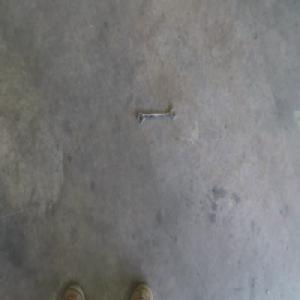Wrench: (135, 108, 177, 127)
